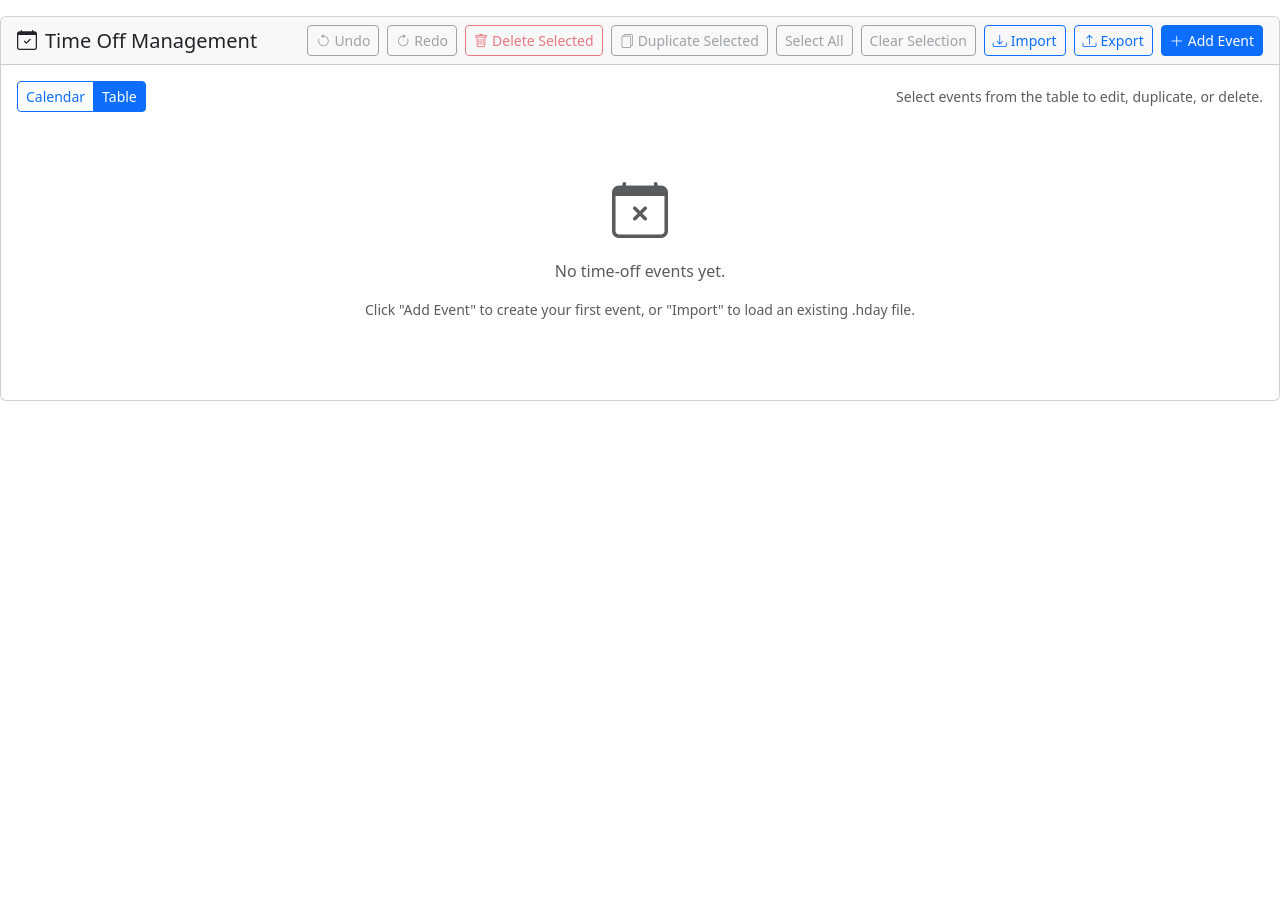
TimeOffView › Edit Event › should open edit modal with pre-filled data
Add event first
Click the button "Add Event" at (1212, 40), box [1161,25,1263,56]
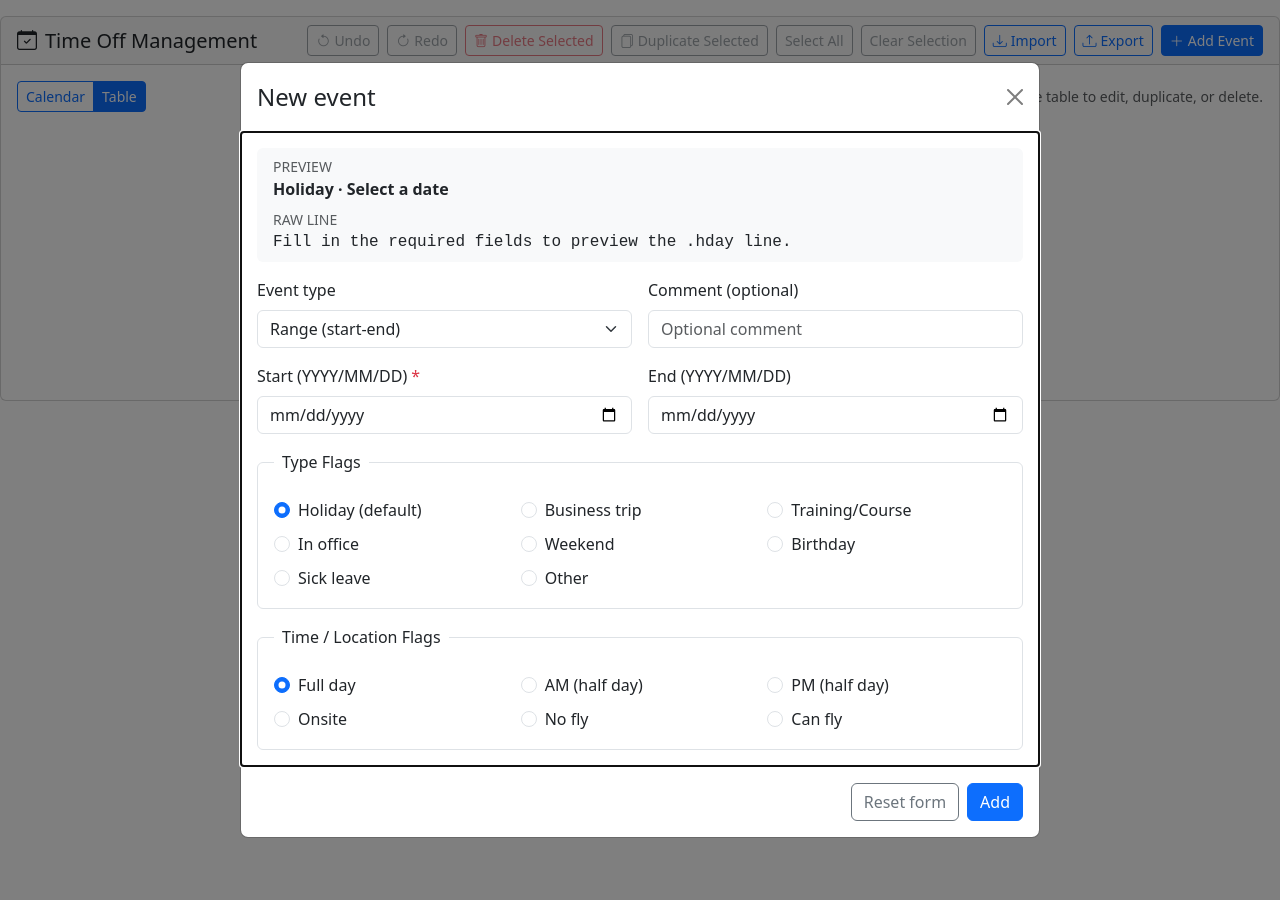
Type "2025-01-15" into the date field labelled "Start (YYYY/MM/DD) *" at (444, 415), box [257,396,632,434]
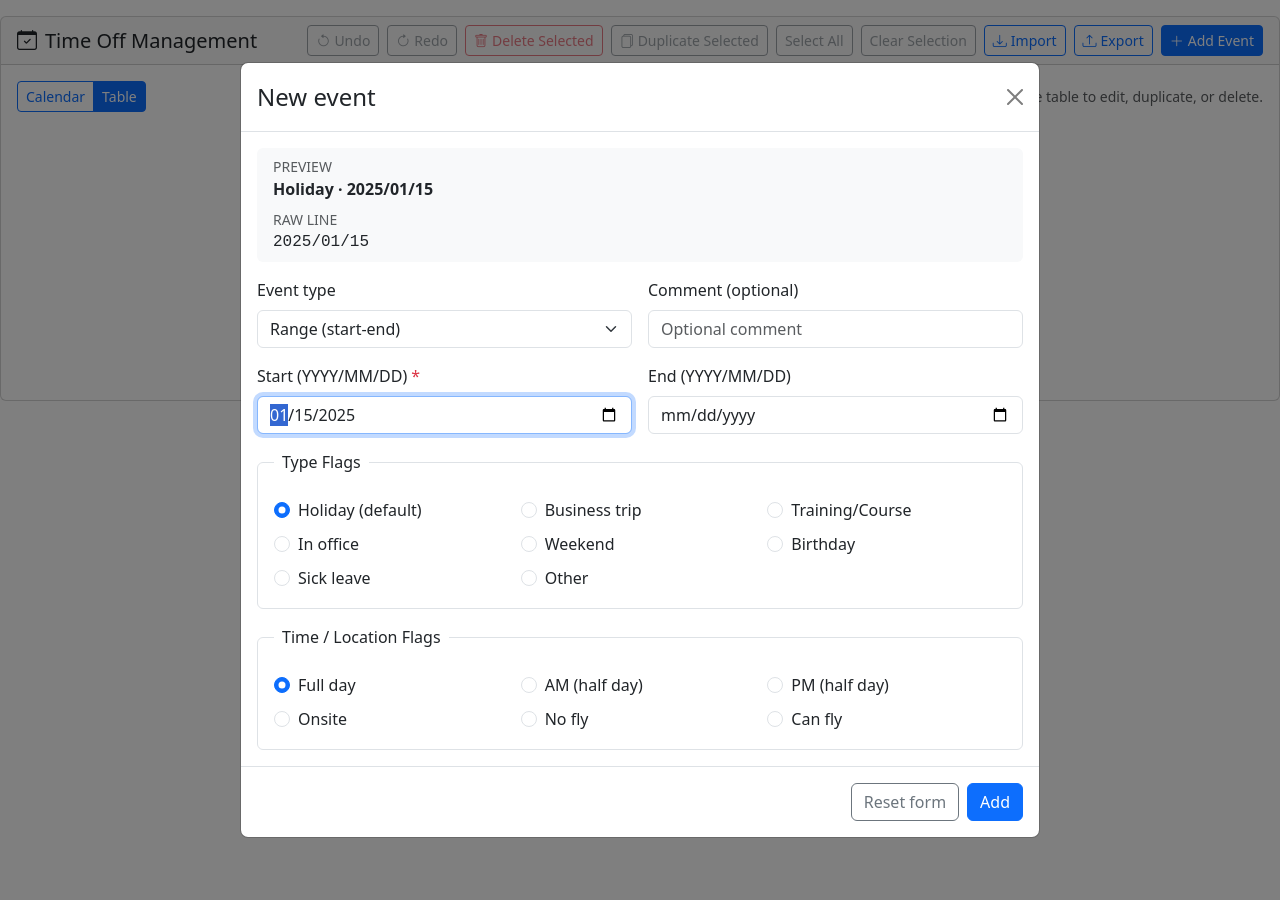
Type "Original title" into the field labelled "Comment (optional)" at (836, 329), box [648,310,1023,348]
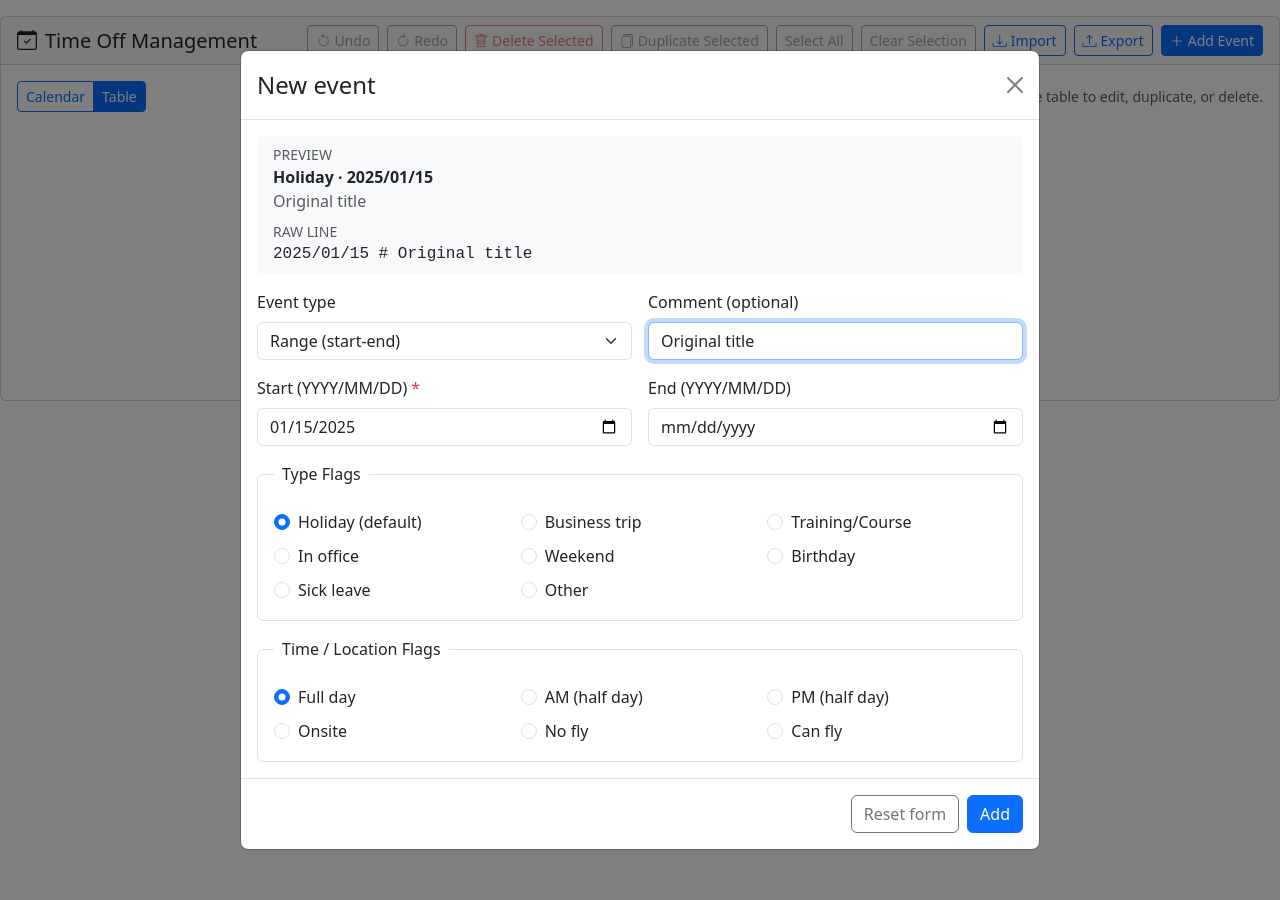
Click the button "Add" at (995, 814), box [967,795,1023,833]
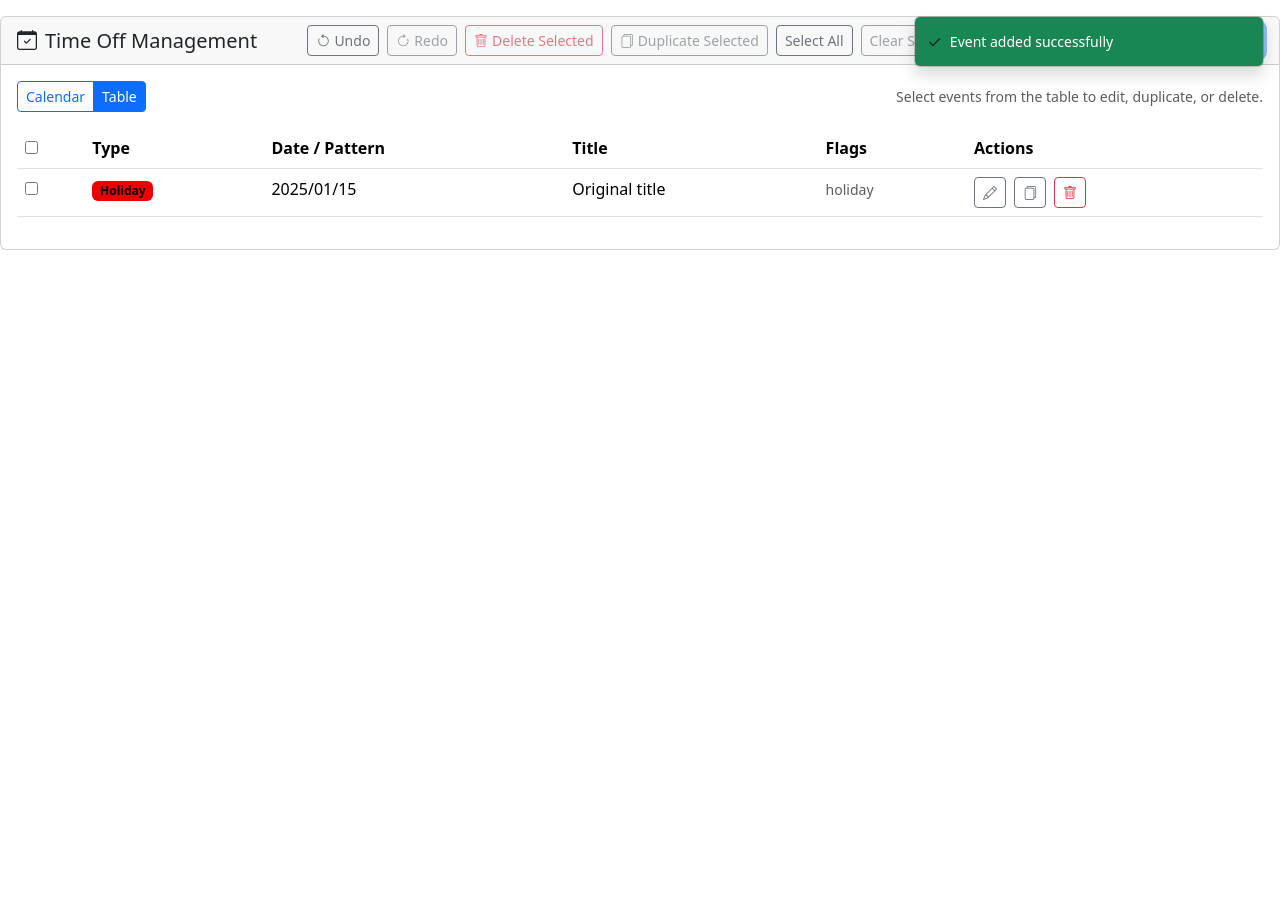
Click the button named "Edit Original title" at (990, 192), box [974,177,1006,208]
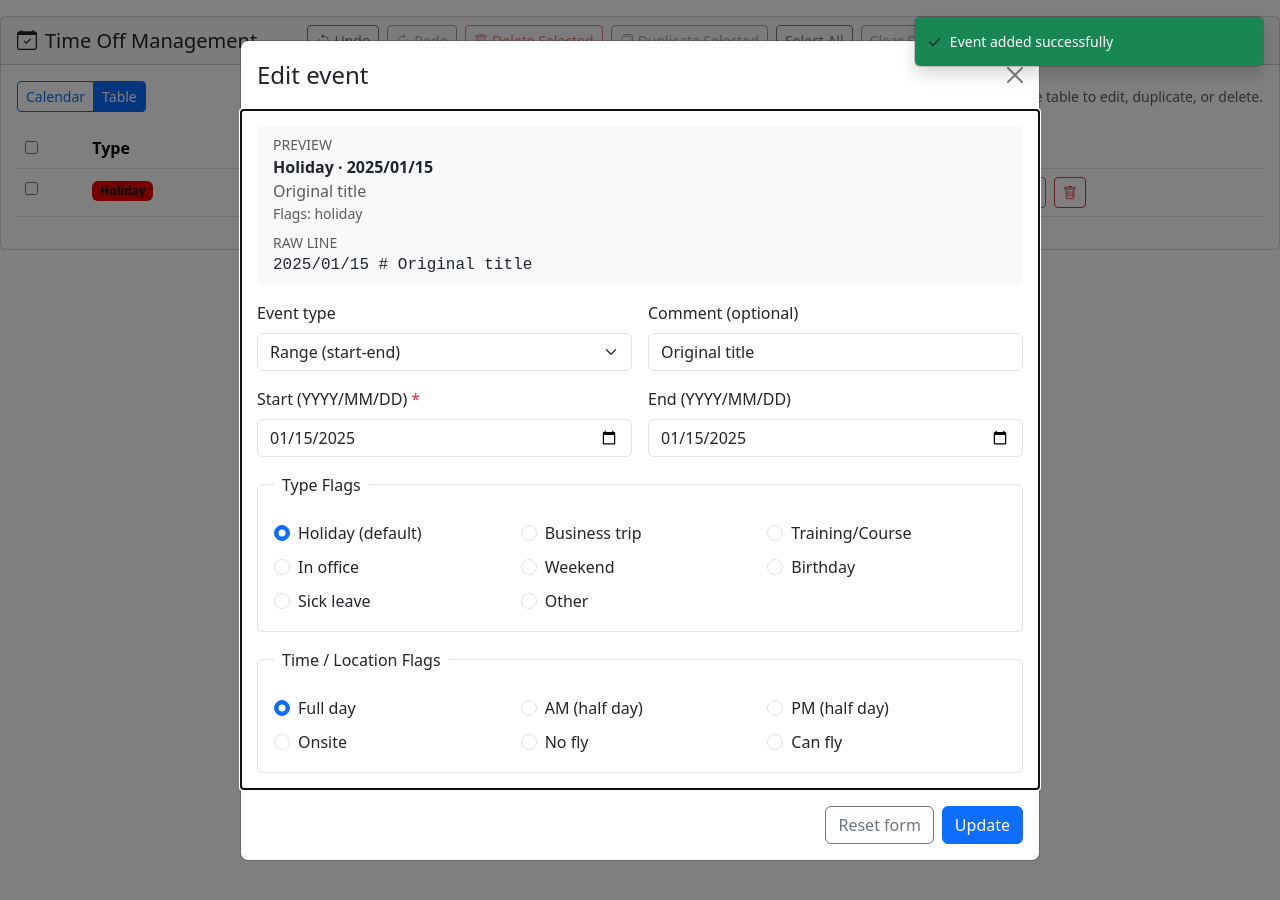
Expected: the text "Edit event" is shown, [257,56,368,92]
Expected: the field showing "Original title" is shown, [648,332,1023,370]
